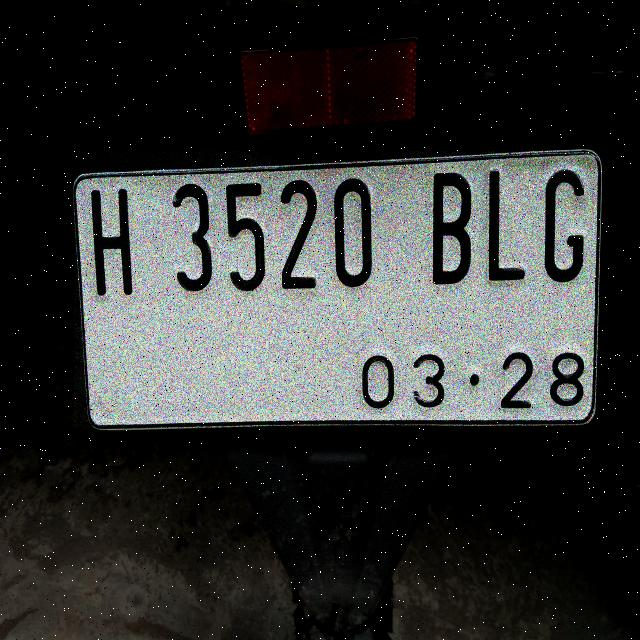plate: (75, 152, 599, 427)
